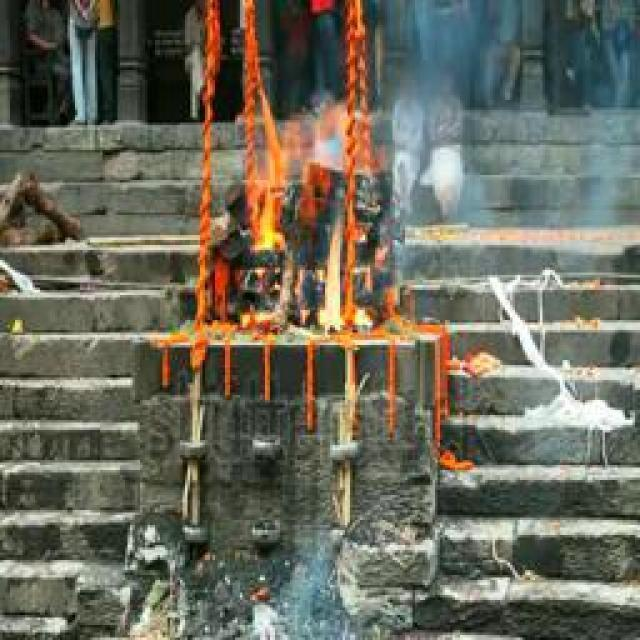Fire: (241, 85, 346, 336)
